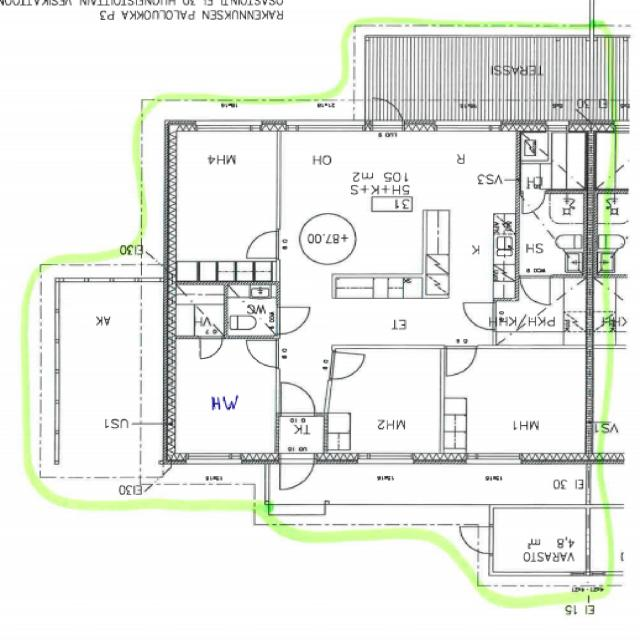door: (282, 453, 316, 495), (372, 90, 404, 132), (329, 352, 369, 384), (282, 383, 314, 417), (276, 306, 312, 334), (447, 344, 478, 376), (463, 302, 498, 330), (246, 341, 282, 368), (246, 231, 281, 258), (522, 274, 552, 305), (461, 526, 495, 552), (200, 335, 223, 361), (524, 189, 546, 213)
